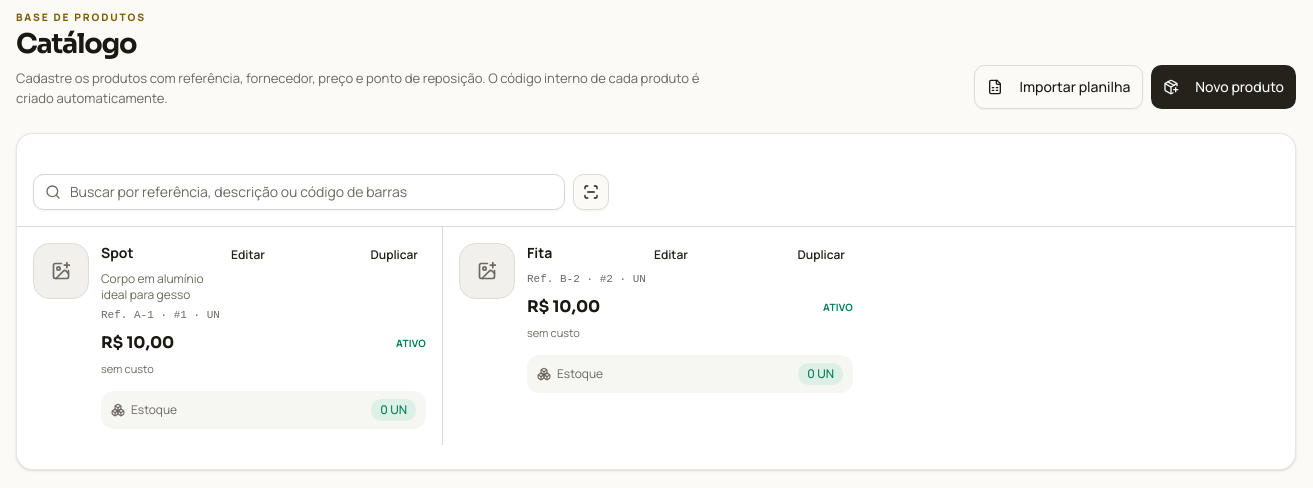
Scenario: ProductsPage › mostra a descrição completa e busca por ela
This screenshot has width=1313, height=488.
Expected: the text "Corpo em alumínio ideal para gesso" is shown, [101,270,204,303]
Expected: the text "Fita" is shown once, [527,243,552,263]
In the field labelled "Buscar por referência, descrição ou código de barras": (299, 192) [33,174,565,210], type "aluminio"
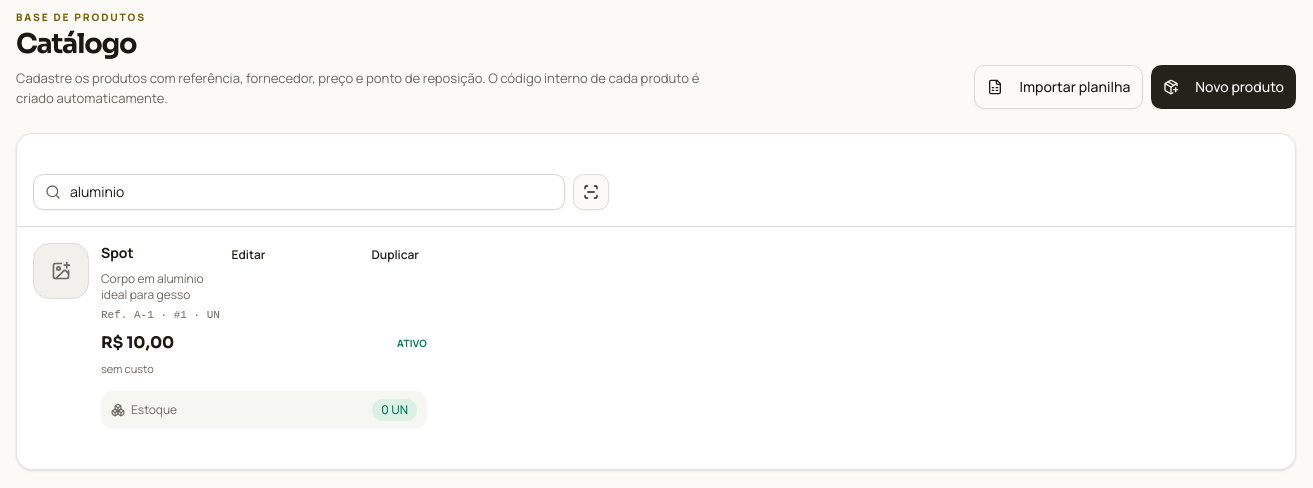
Expected: the text "Spot" is shown, [101,243,134,263]
Expected: the text "Fita" is gone
